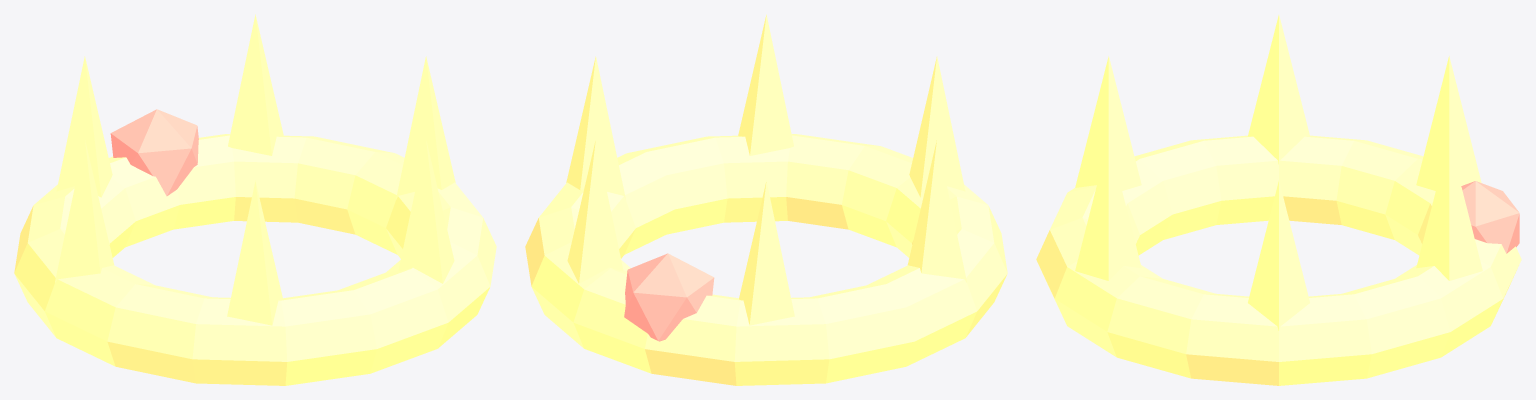
Rendered from crown.glb.
3 views of the same model, side by side, from view 1: azimuth 30°, elevation 25°; view 2: azimuth 150°, elevation 25°; view 3: azimuth 270°, elevation 25° (orthographic).
Visible parts, largest first — view 1: CrownBand; view 2: CrownBand; view 3: CrownBand.
Part boxes in pixels (x1,y1,x2,y2): CrownBand: (14, 14, 496, 385); CrownBand: (525, 14, 1007, 385); CrownBand: (1036, 15, 1521, 385).
Bounding box in the file's own units: 0.84 × 0.39 × 0.84.
